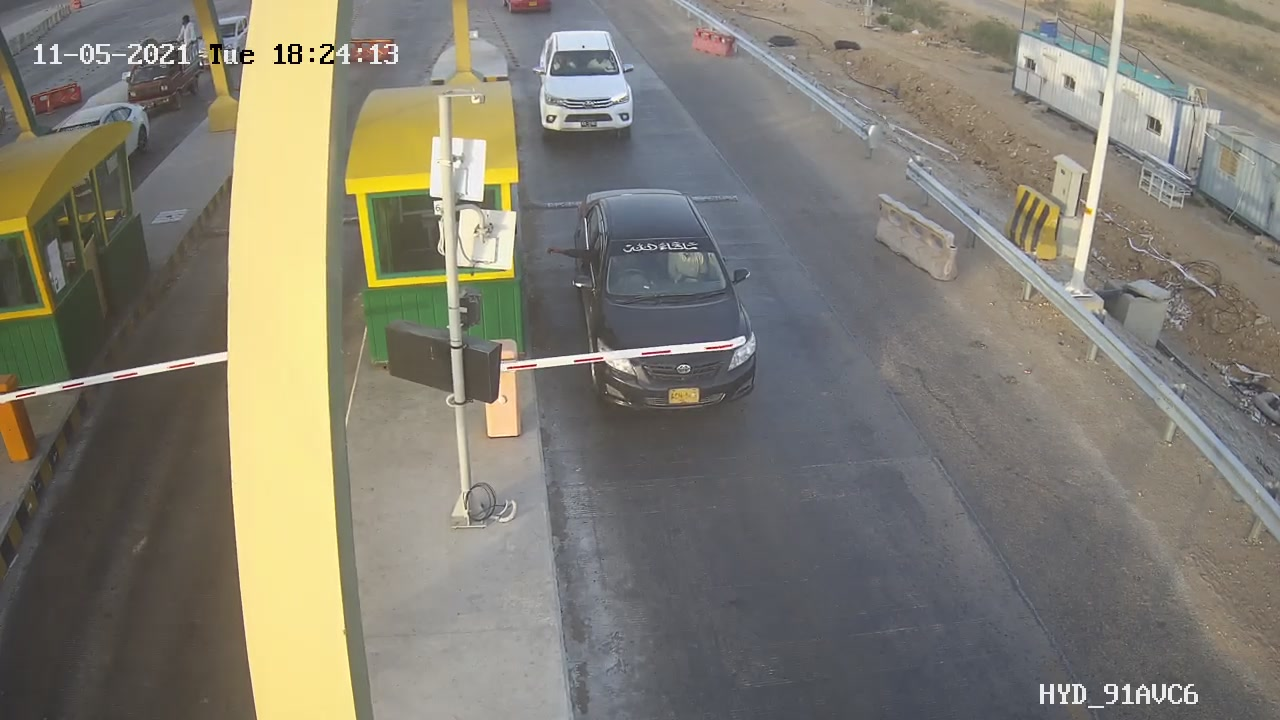F1: (579, 184, 761, 422), (526, 24, 650, 145)
